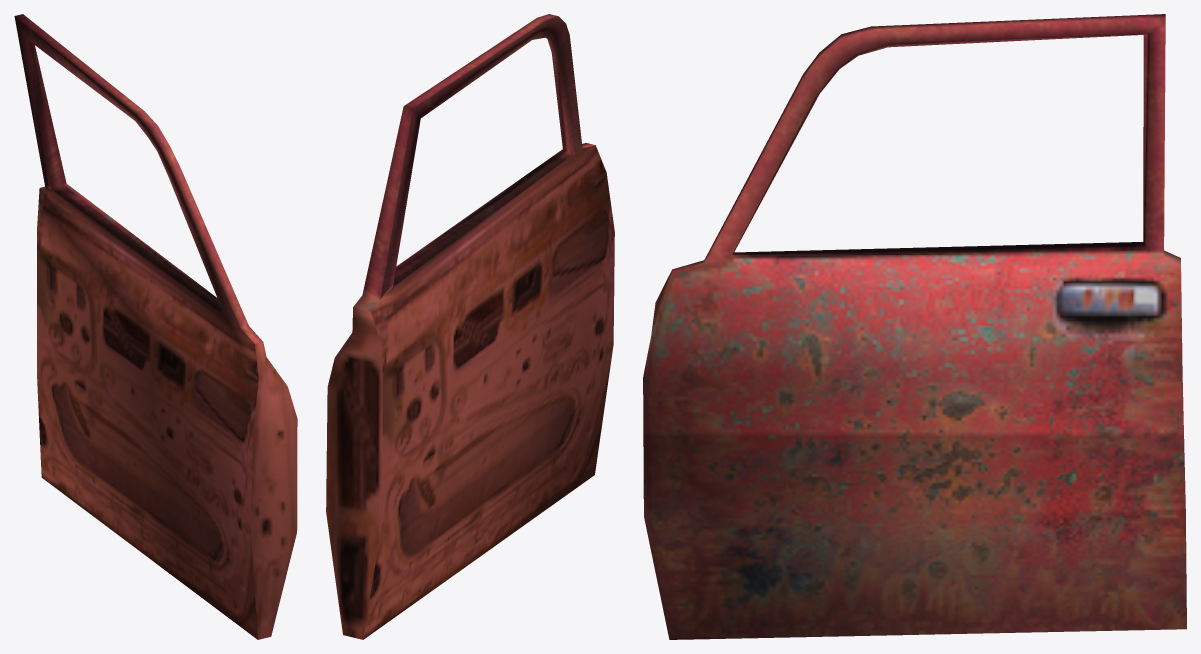
The picture shows the model from 3 angles, left to right: view 1: azimuth 30°, elevation 25°; view 2: azimuth 150°, elevation 25°; view 3: azimuth 270°, elevation 25°; orthographic projection. The views are drawn at different scales.
Parts seen in each view (by area): view 1: Part00; view 2: Part00; view 3: Part00.
Boxes of the visible parts, x1=… form: Part00: x1=14, y1=14, x2=297, y2=639; Part00: x1=326, y1=14, x2=614, y2=639; Part00: x1=643, y1=14, x2=1186, y2=639.
Bounding box in the file's own units: 0.1755 × 1.17 × 0.9729.
